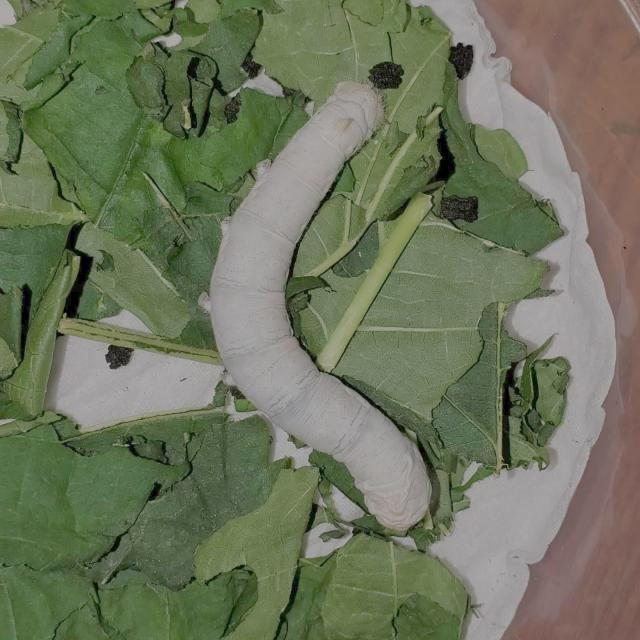Healthy: (198, 64, 450, 538)
